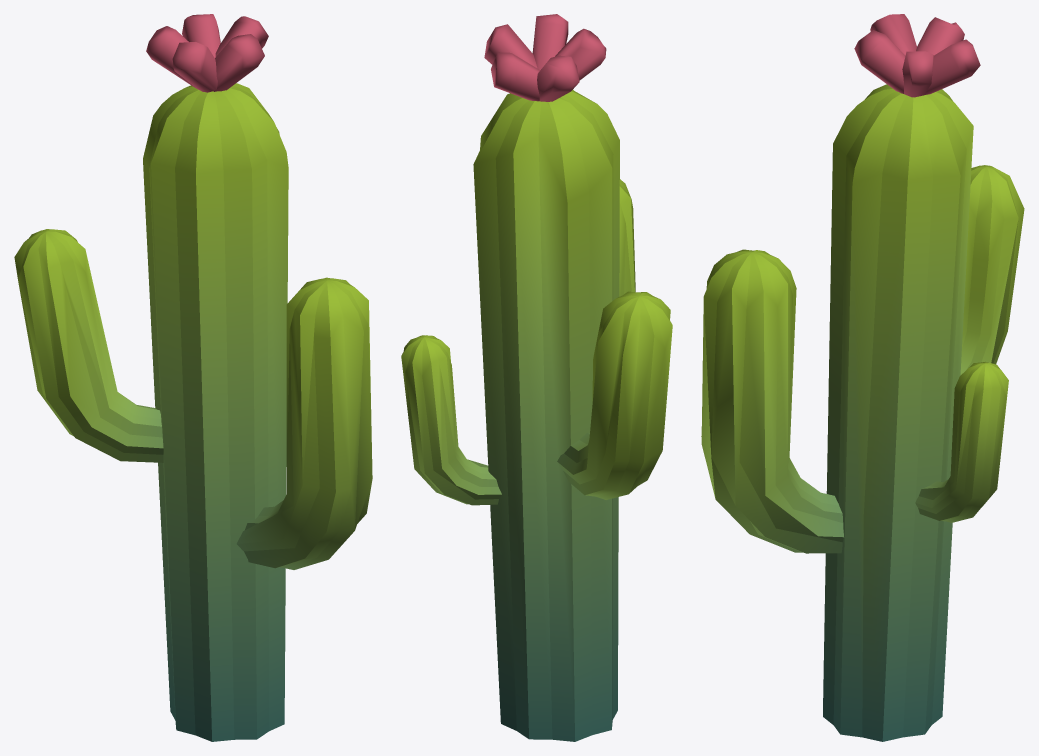
3 views of the same model, side by side, from view 1: azimuth 30°, elevation 25°; view 2: azimuth 150°, elevation 25°; view 3: azimuth 270°, elevation 25° (orthographic). The views are drawn at different scales.
Visible parts, largest first — view 1: LOD 1_7895142726789826799_f747010238922ae448abd02d66270030; view 2: LOD 1_7895142726789826799_f747010238922ae448abd02d66270030; view 3: LOD 1_7895142726789826799_f747010238922ae448abd02d66270030.
Boxes of the visible parts, x1,y1,x2,y2 form: LOD 1_7895142726789826799_f747010238922ae448abd02d66270030: (14, 14, 372, 741); LOD 1_7895142726789826799_f747010238922ae448abd02d66270030: (401, 14, 672, 741); LOD 1_7895142726789826799_f747010238922ae448abd02d66270030: (701, 14, 1024, 741).
Bounding box in the file's own units: 1.06 × 2.66 × 1.13.
